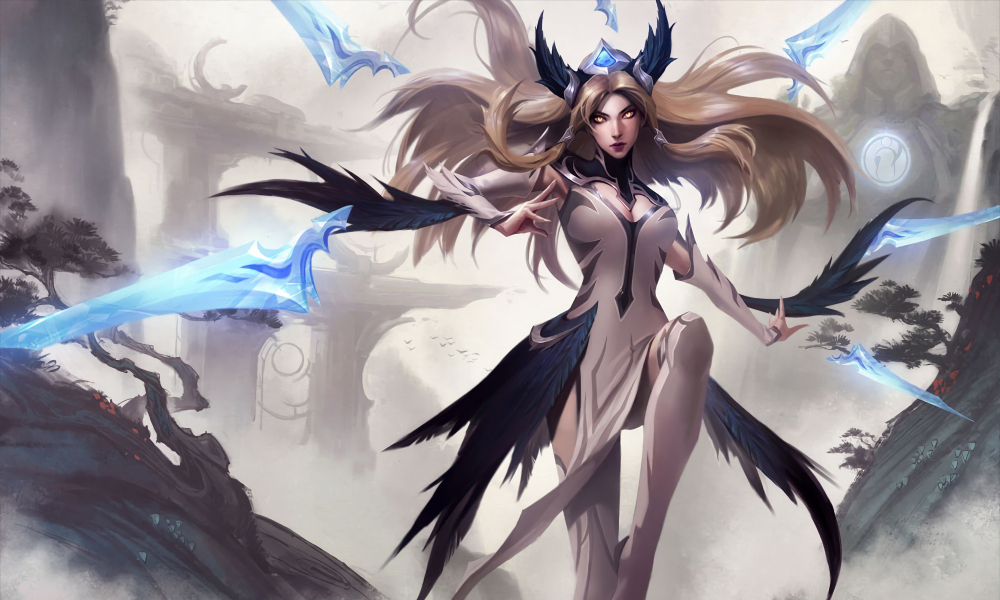face: (549, 47, 679, 171)
